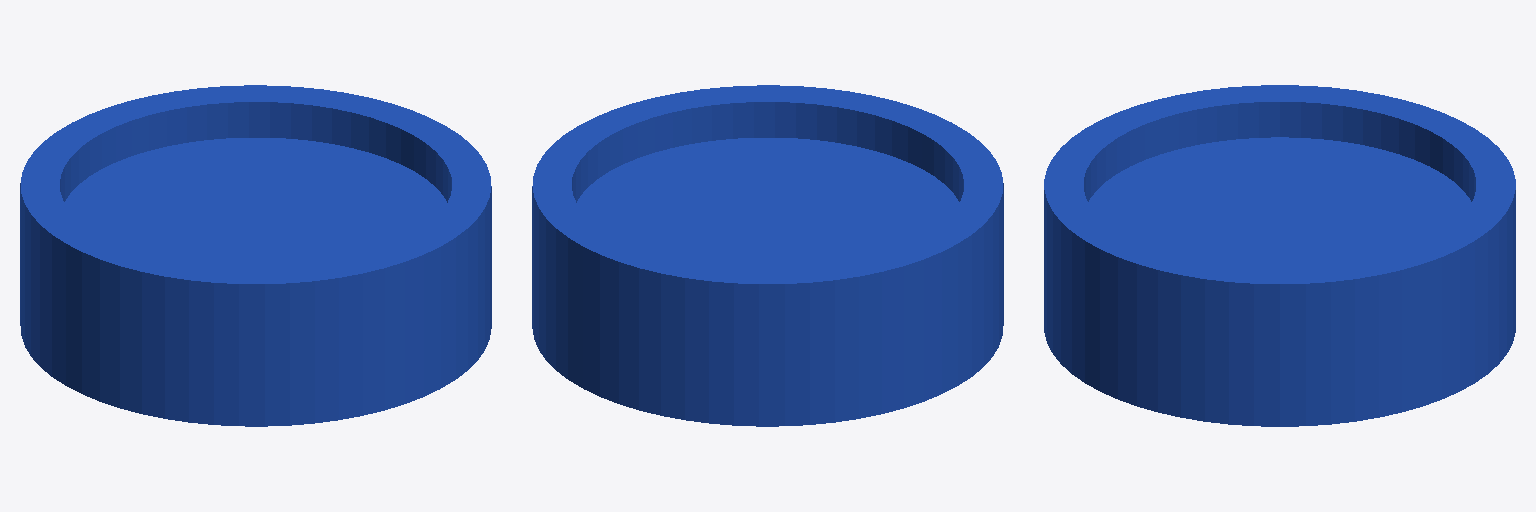
robot.urdf — test_part:
<?xml version="1.0"?>

<robot name="test_part">

  <link name="base">
  </link>

  <joint name="base_joint" type="fixed">
    <parent link="base"/>
    <child link="part_1"/>
    <origin xyz="0 0 0" rpy="0 0 0"/>
  </joint>

  <link name="part_1">

    <visual>
        <origin xyz="0 0 0" rpy="0 0 0"/>

        <geometry>
            <mesh filename="package://pkg_04_assembly/meshes/Part_1.stl"
                  scale="1 1 1"/>
        </geometry>
    

        <material name="blue">
           <color rgba="0.2 0.4 0.8 1.0"/>
        </material>
    </visual>

  </link>

</robot>

--- What the picture shows (computed from the rendered views, not written in the file) ---
The picture shows the robot from 3 angles, left to right: view 1: azimuth 30°, elevation 25°; view 2: azimuth 150°, elevation 25°; view 3: azimuth 270°, elevation 25°; orthographic projection.
Robot: test_part — 2 links, 1 joints (1 fixed); root link base; default pose: every joint at zero.
Visible links, largest first — view 1: part_1; view 2: part_1; view 3: part_1.
Link boxes in pixels (x1,y1,x2,y2): part_1: [20, 85, 491, 426]; part_1: [532, 85, 1003, 426]; part_1: [1044, 85, 1515, 426].
Size in the robot's own frame: 0.12 by 0.1198 by 0.04 metres.
1 mesh visuals loaded from 1 distinct referenced files (1 binary STL).
